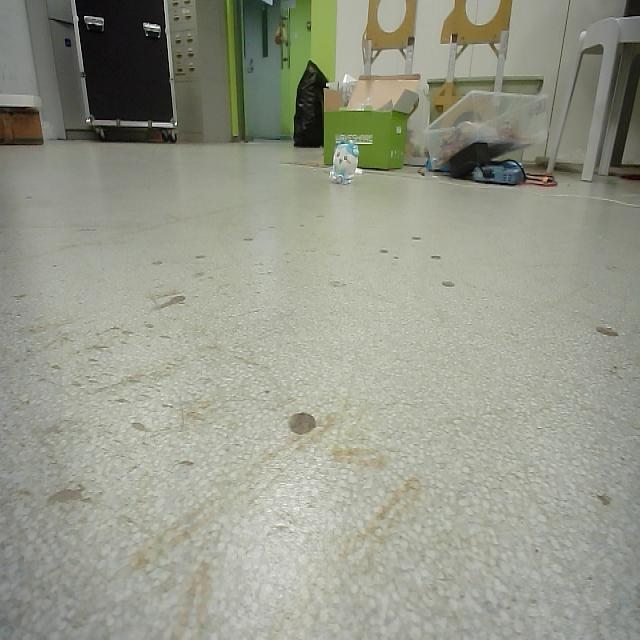xiaoba: (326, 133, 362, 187)
